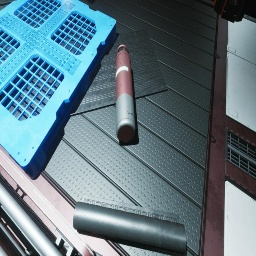NitrogenTank ,: (115, 44, 136, 143)
